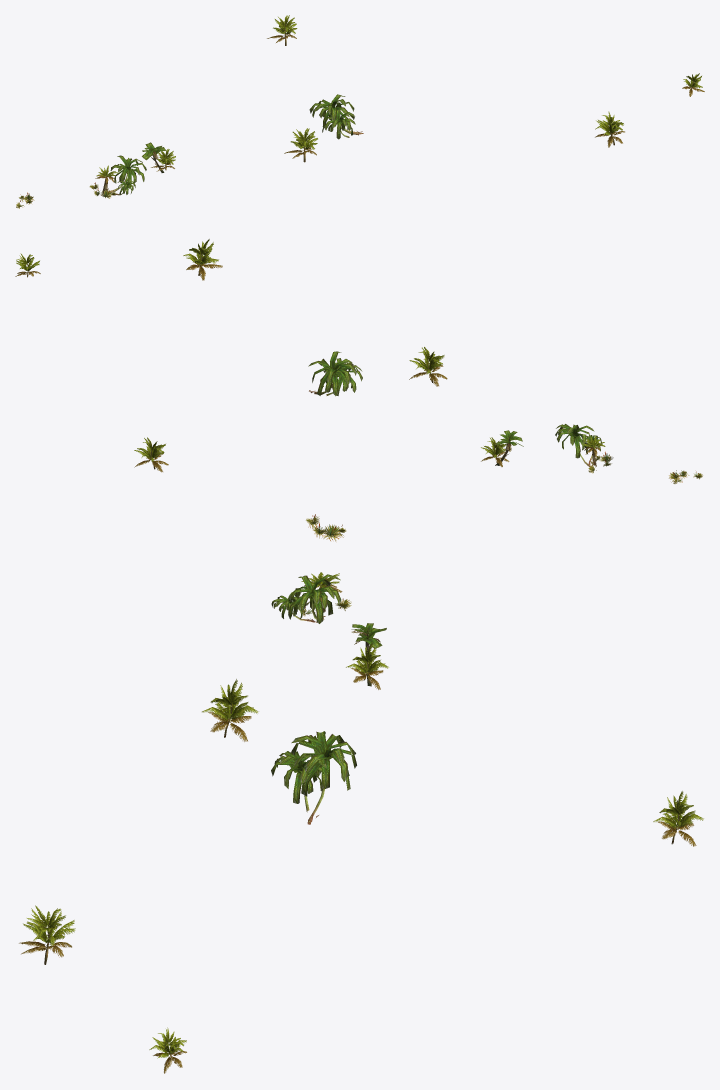
The model's file is S_Plant_Yellow015_A.FBX.
The picture shows the model from 3 angles, top to bottom: view 1: azimuth 30°, elevation 25°; view 2: azimuth 150°, elevation 25°; view 3: azimuth 270°, elevation 25°; orthographic projection. The views are drawn at different scales.
Parts seen in each view (by area): view 1: S_Tree_Green053_004, S_Tree_Green053_001, S_Plant_Yellow015_002, S_Plant_Yellow015_004, S_Tree_Green053_003, S_Plant_Yellow015_003; view 2: S_Tree_Green053_004, S_Plant_Yellow015_004, S_Tree_Green053_001, S_Plant_Yellow015_002, S_Plant_Yellow015_003; view 3: S_Tree_Green053_004, S_Plant_Yellow015_004, S_Plant_Yellow015_002, S_Tree_Green053_001, S_Plant_Yellow015_003, S_Tree_Green053_003.
Boxes of the visible parts, <box> form: S_Tree_Green053_004: <box>309,94,363,135</box>; S_Tree_Green053_001: <box>108,155,146,192</box>; S_Plant_Yellow015_002: <box>284,128,317,162</box>; S_Plant_Yellow015_004: <box>595,111,624,147</box>; S_Tree_Green053_003: <box>322,110,355,139</box>; S_Plant_Yellow015_003: <box>267,15,297,45</box>; S_Tree_Green053_004: <box>308,351,356,396</box>; S_Plant_Yellow015_004: <box>183,239,222,280</box>; S_Tree_Green053_001: <box>555,424,594,467</box>; S_Plant_Yellow015_002: <box>409,347,447,386</box>; S_Plant_Yellow015_003: <box>134,437,168,472</box>; S_Tree_Green053_004: <box>291,731,356,824</box>; S_Plant_Yellow015_004: <box>19,905,75,964</box>; S_Plant_Yellow015_002: <box>202,679,258,741</box>; S_Tree_Green053_001: <box>288,574,341,623</box>; S_Plant_Yellow015_003: <box>653,791,703,846</box>; S_Tree_Green053_003: <box>271,751,326,812</box>.
Size of the model in its own units: 13196 by 971 by 7154.
